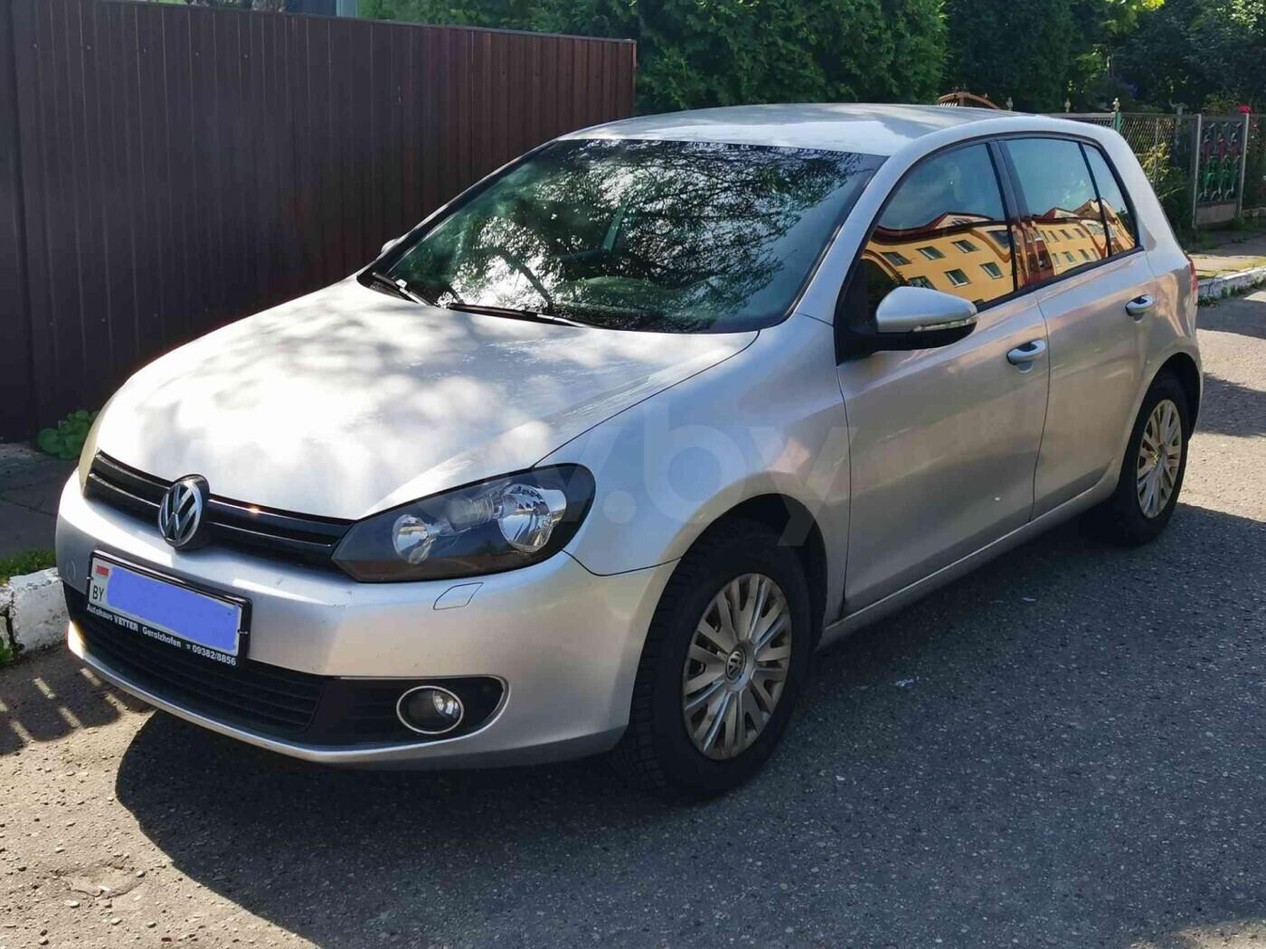Golf_2008-2013: (56, 96, 1216, 788)
